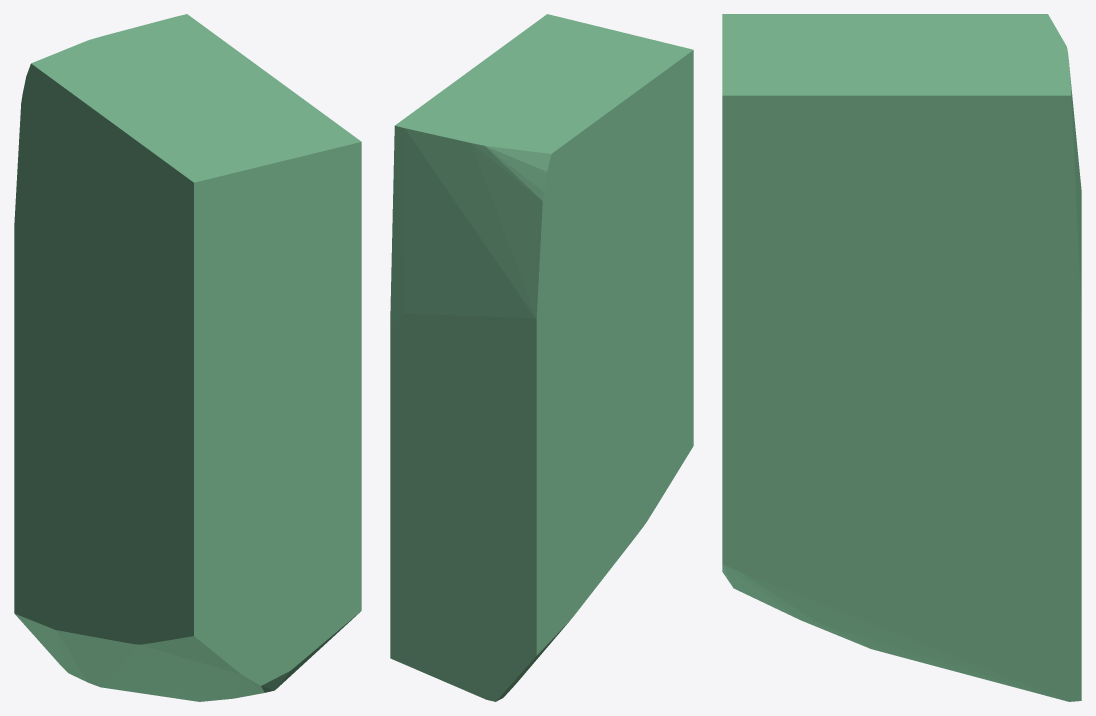
3 renders of one model, left to right at view 1: azimuth 30°, elevation 25°; view 2: azimuth 150°, elevation 25°; view 3: azimuth 270°, elevation 25°, orthographic. The views are drawn at different scales.
Size of the model in its own units: 0.00956 by 0.0342 by 0.0178.
